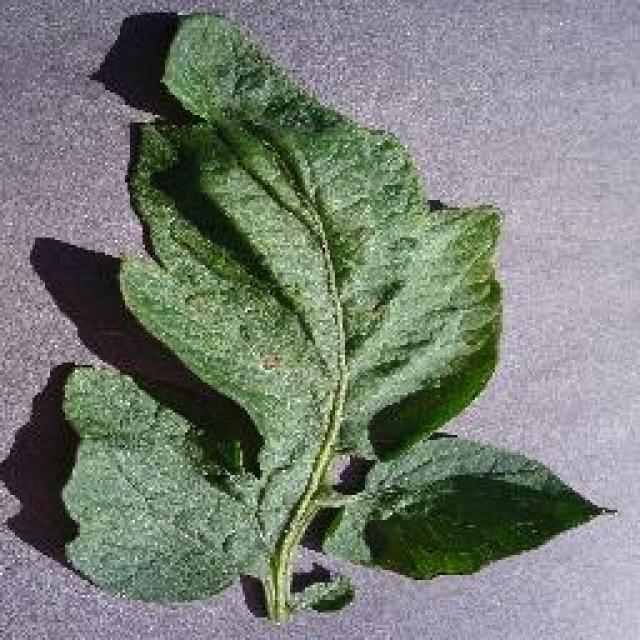Tomato Septoria spot leaf: (51, 12, 501, 600), (325, 430, 617, 585)
